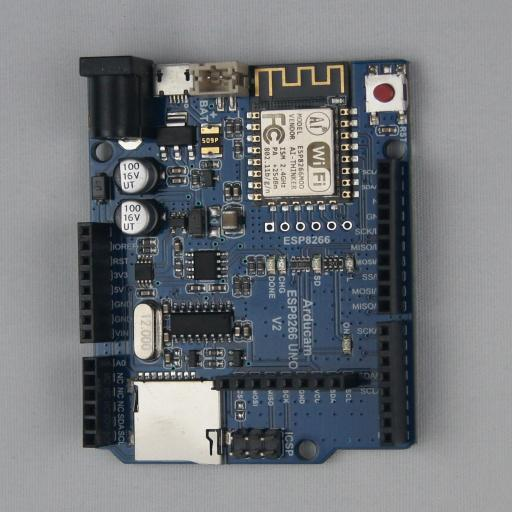Arduino Uno Camera Shield: (77, 55, 426, 465)
